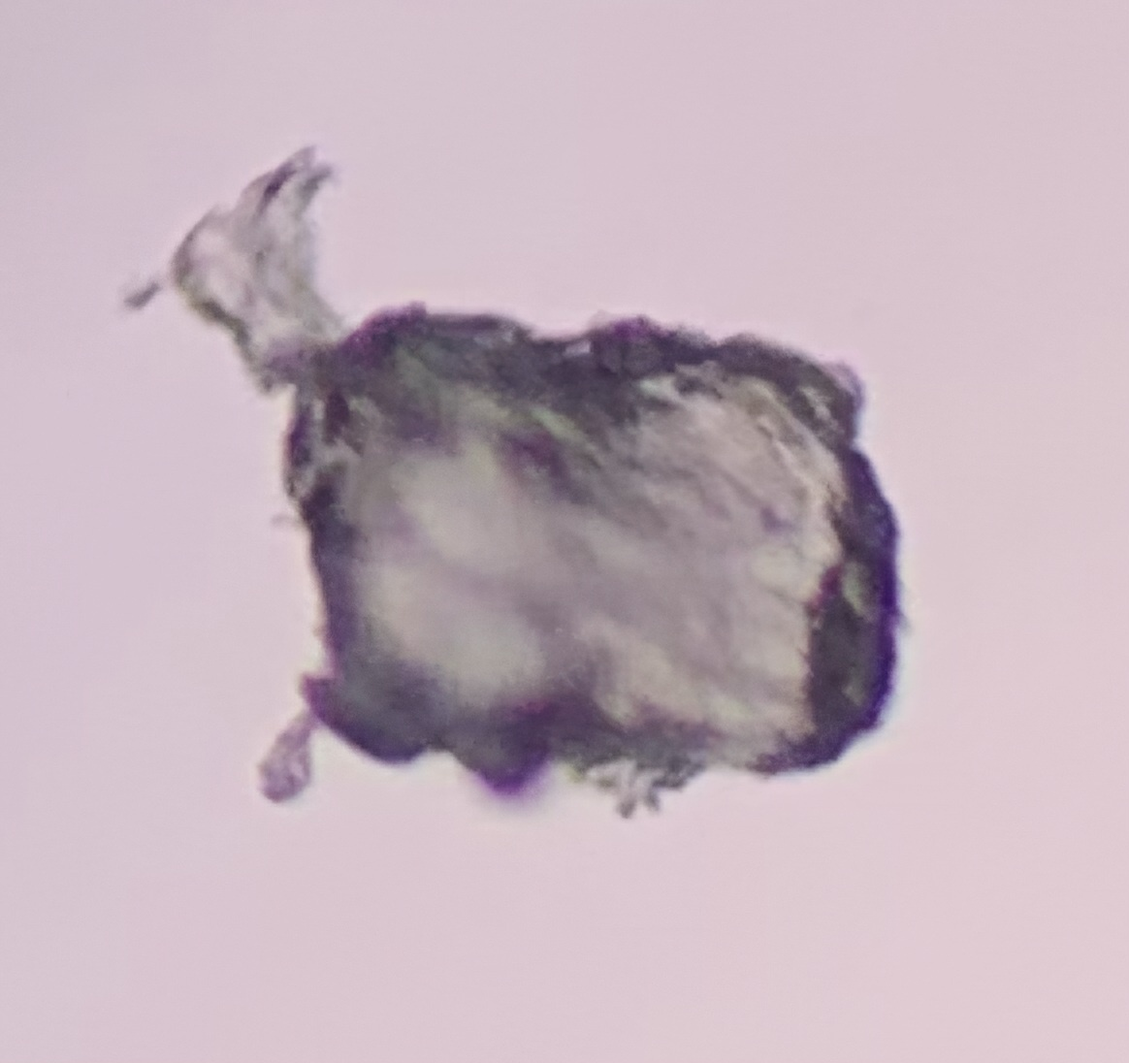microplastic: (123, 147, 908, 821)
